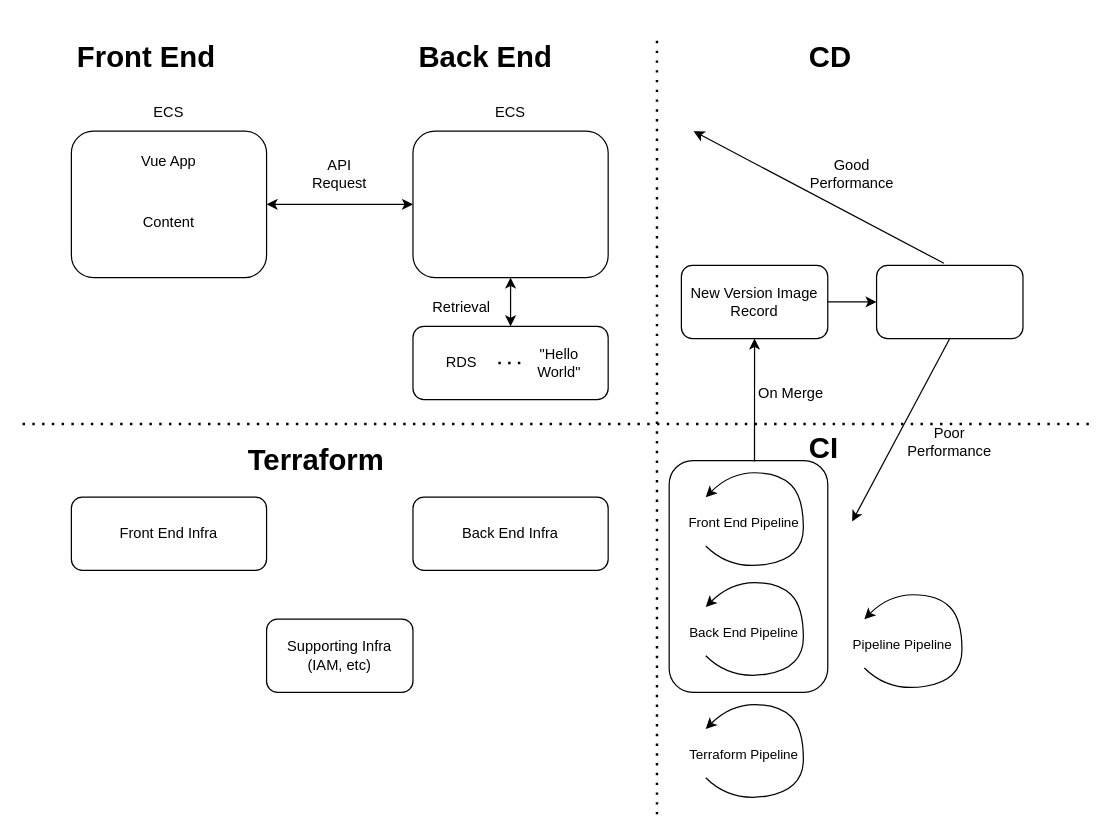
Some shapes in this 1119 by 837 pixel diagram are drawn without their labels. Here are the shapes that lost their labels. From the top down, the centre of each, then its label:
point (510, 204): App API
point (949, 301): Load Balancer Manipulation
